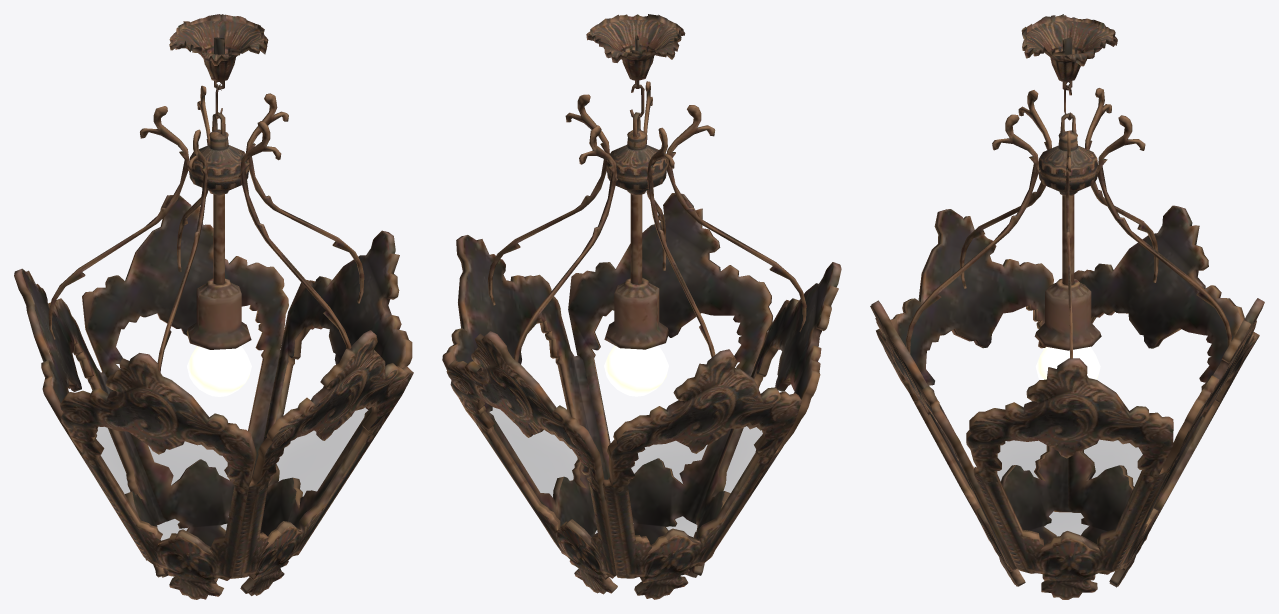
Rendered from lantern_chandelier_01.glb.
The picture shows the model from 3 angles, left to right: view 1: azimuth 30°, elevation 25°; view 2: azimuth 150°, elevation 25°; view 3: azimuth 270°, elevation 25°; orthographic projection.
Parts seen in each view (by area): view 1: lantern_chandelier_01; view 2: lantern_chandelier_01; view 3: lantern_chandelier_01.
Boxes of the visible parts, left/top/right/bottom form: lantern_chandelier_01: left=14, top=14, right=413, bottom=599; lantern_chandelier_01: left=442, top=14, right=841, bottom=599; lantern_chandelier_01: left=870, top=14, right=1264, bottom=599.
Bounding box in the file's own units: 0.5792 × 0.8776 × 0.5746.
3 materials, 2 textured.
